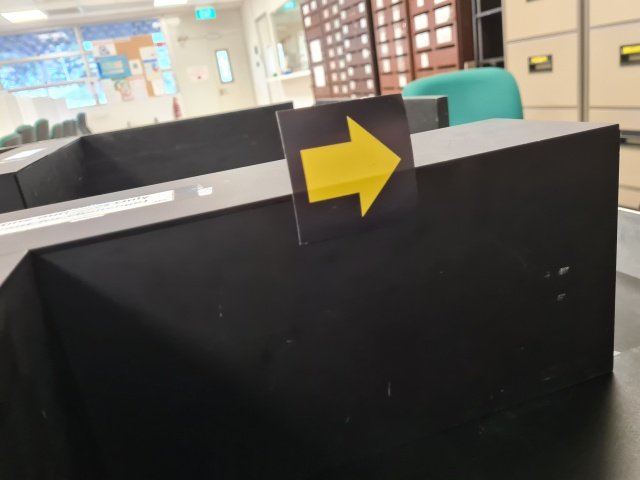right_arrow: (275, 93, 427, 246)
